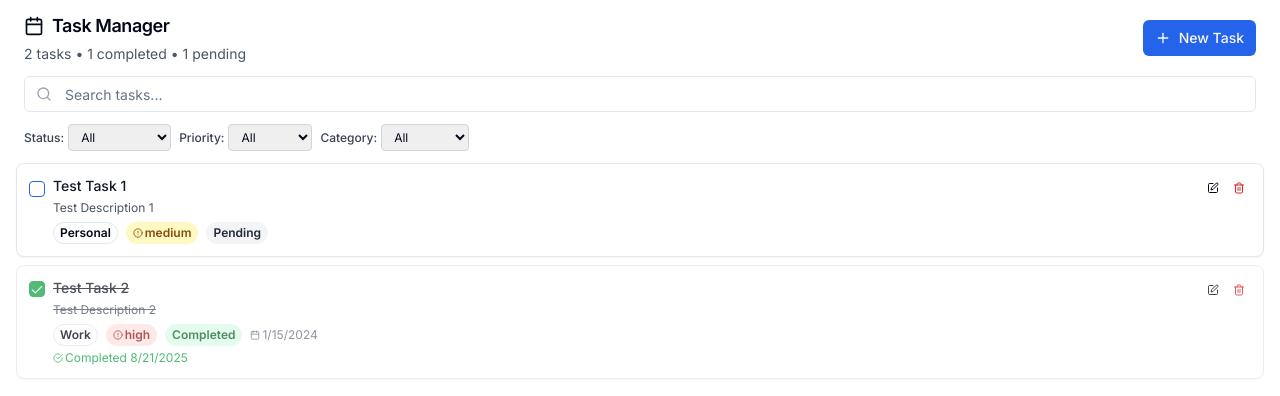
Test case: TaskManager Component › should filter tasks by search term
This screenshot has width=1280, height=396.
Expected: the heading "Test Task 1" is shown, [53, 177, 126, 194]
Type "Task 1" into the field with placeholder "Search tasks...".
click(640, 94); type("Task 1")  # box [24, 76, 1256, 112]
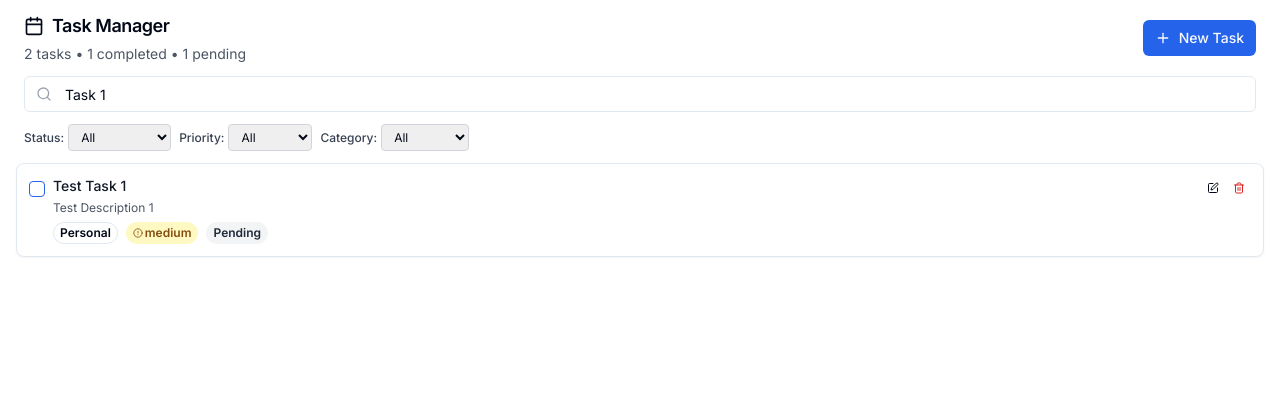
Expected: the heading "Test Task 1" is shown, [53, 177, 126, 194]
Expected: the heading "Test Task 2" is gone
